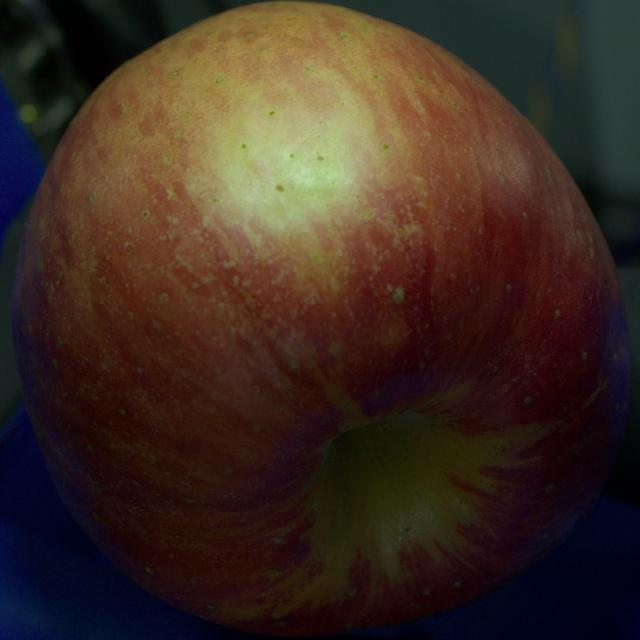apple: (12, 2, 629, 636)
